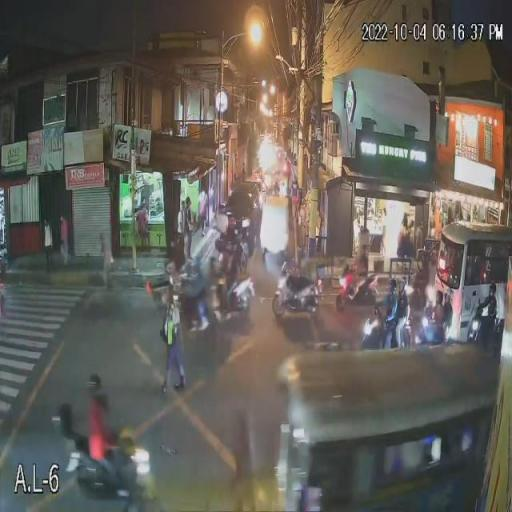helmet: (84, 375, 110, 404), (389, 278, 401, 296), (397, 276, 408, 294), (444, 288, 454, 305), (359, 245, 370, 258), (434, 291, 444, 304), (488, 282, 496, 298)
motorcycle: (65, 440, 158, 508), (270, 261, 324, 318), (333, 266, 379, 310), (360, 314, 414, 350), (466, 307, 506, 344), (419, 314, 456, 344), (430, 305, 444, 339), (441, 304, 453, 342)
rider: (85, 405, 137, 510), (374, 295, 400, 350), (476, 296, 498, 344), (347, 255, 369, 301), (397, 292, 410, 348)
